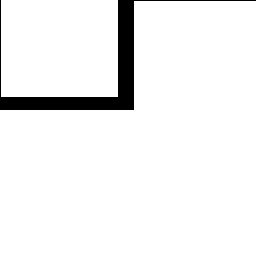rumex: (0, 110, 184, 256), (134, 1, 255, 140), (1, 0, 117, 96), (185, 137, 256, 256)
